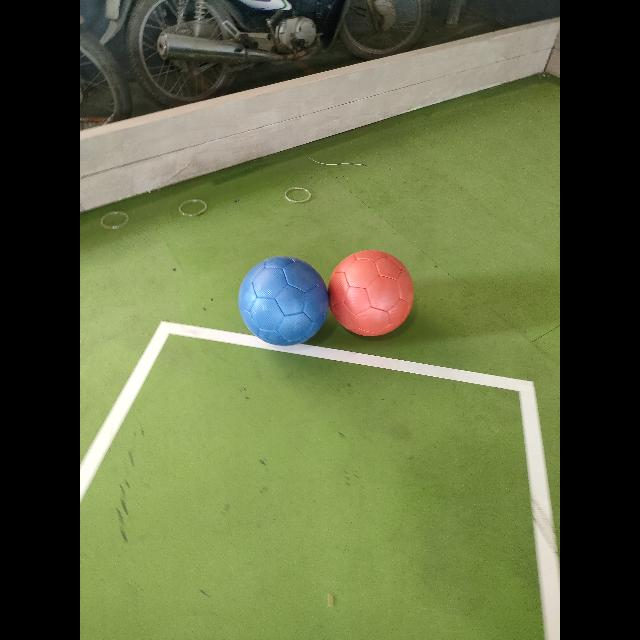B: (239, 256, 329, 345)
R: (329, 250, 414, 336)
